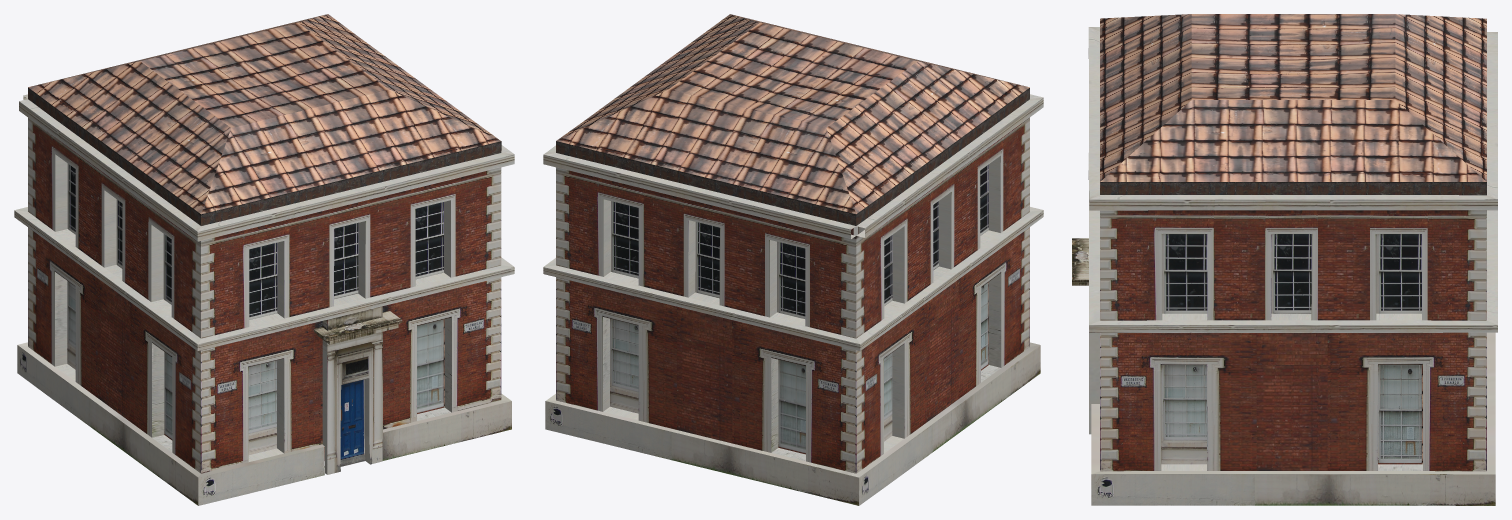
The model's file is building_apartment_13.glb.
3 views of the same model, side by side, from view 1: azimuth 30°, elevation 25°; view 2: azimuth 150°, elevation 25°; view 3: azimuth 270°, elevation 25° (orthographic). The views are drawn at different scales.
Visible parts, largest first — view 1: Building_Apartment_13; view 2: Building_Apartment_13; view 3: Building_Apartment_13.
Boxes of the visible parts, x1,y1,x2,y2 form: Building_Apartment_13: (14,14,514,505); Building_Apartment_13: (543,14,1043,505); Building_Apartment_13: (1072,14,1497,505).
Bounding box in the file's own units: 625 × 614 × 652.
Materials: 1 (1 with a texture image).
